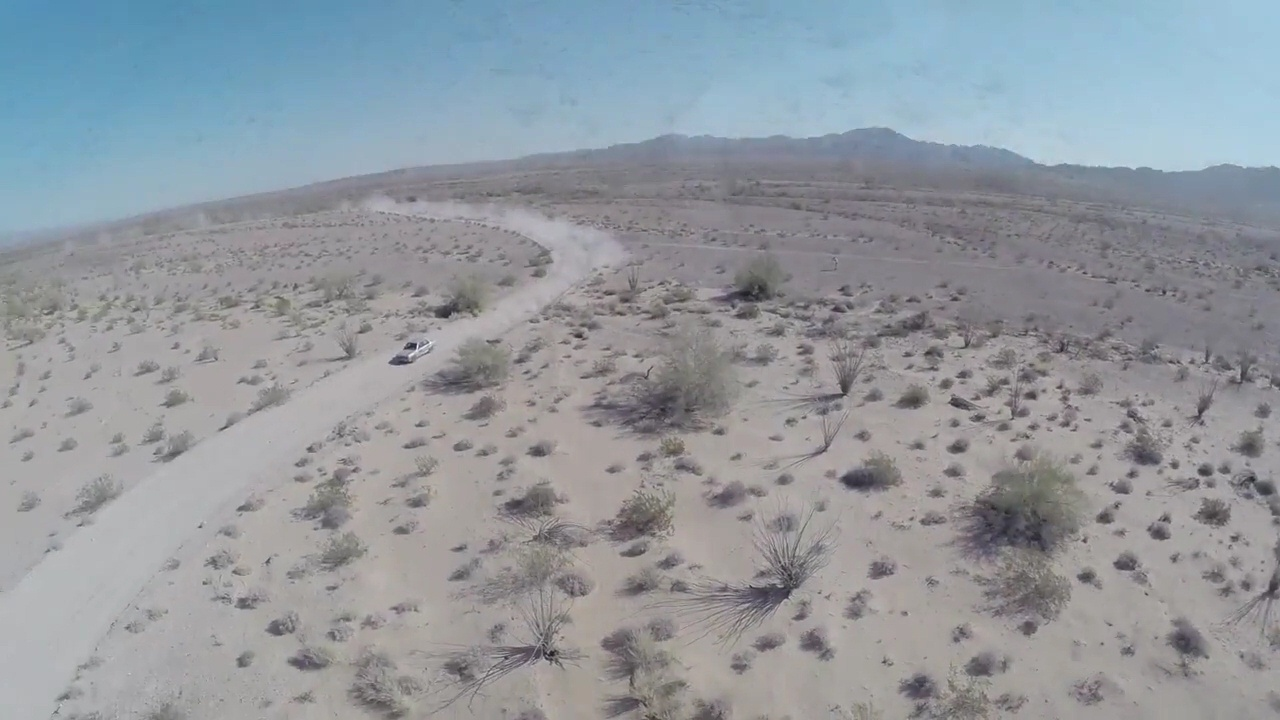araba: (392, 338, 435, 365)
